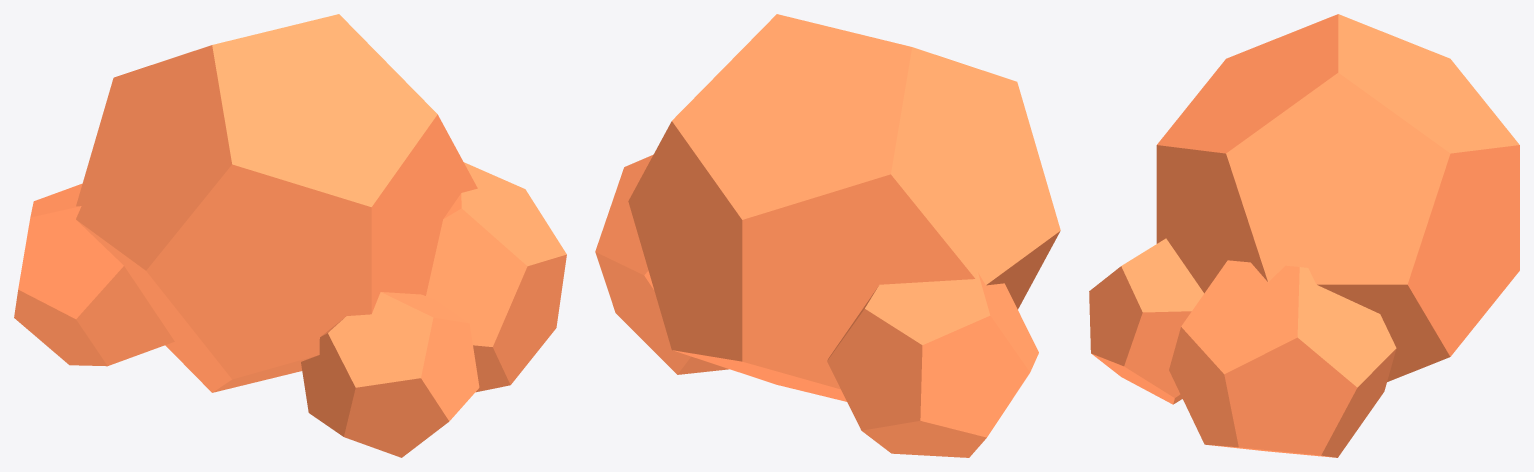
Rendered from relikwia-fizyczny.glb.
The picture shows the model from 3 angles, left to right: view 1: azimuth 30°, elevation 25°; view 2: azimuth 150°, elevation 25°; view 3: azimuth 270°, elevation 25°; orthographic projection. The views are drawn at different scales.
Size of the model in its own units: 0.8789 by 0.7002 by 0.7756.
